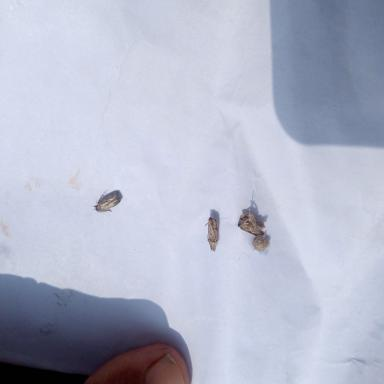pbw: (237, 208, 266, 237), (92, 192, 122, 212), (205, 217, 218, 251)
